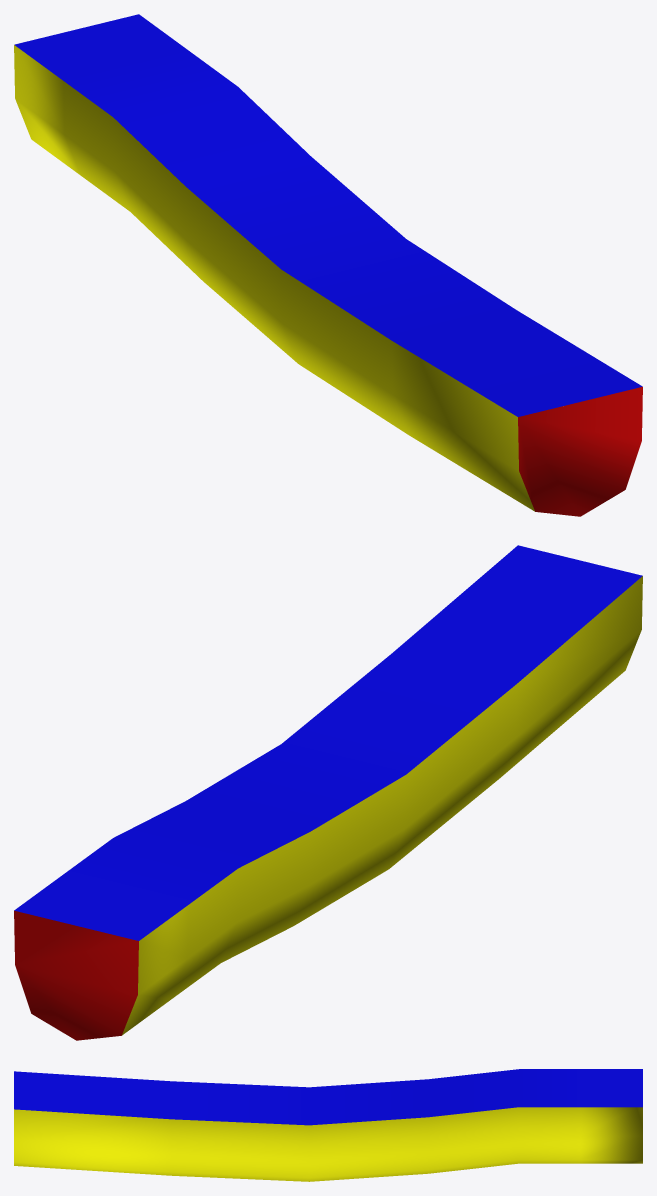
3 views of the same model, one above another, from view 1: azimuth 30°, elevation 25°; view 2: azimuth 150°, elevation 25°; view 3: azimuth 270°, elevation 25° (orthographic). The views are drawn at different scales.
Parts seen in each view (by area): view 1: polySurface98; view 2: polySurface98; view 3: polySurface98.
Boxes of the visible parts, x1=… form: polySurface98: x1=14, y1=14, x2=642, y2=516; polySurface98: x1=14, y1=545, x2=642, y2=1040; polySurface98: x1=14, y1=1069, x2=642, y2=1181.
Bounding box in the file's own units: 23.58 × 25.95 × 165.
